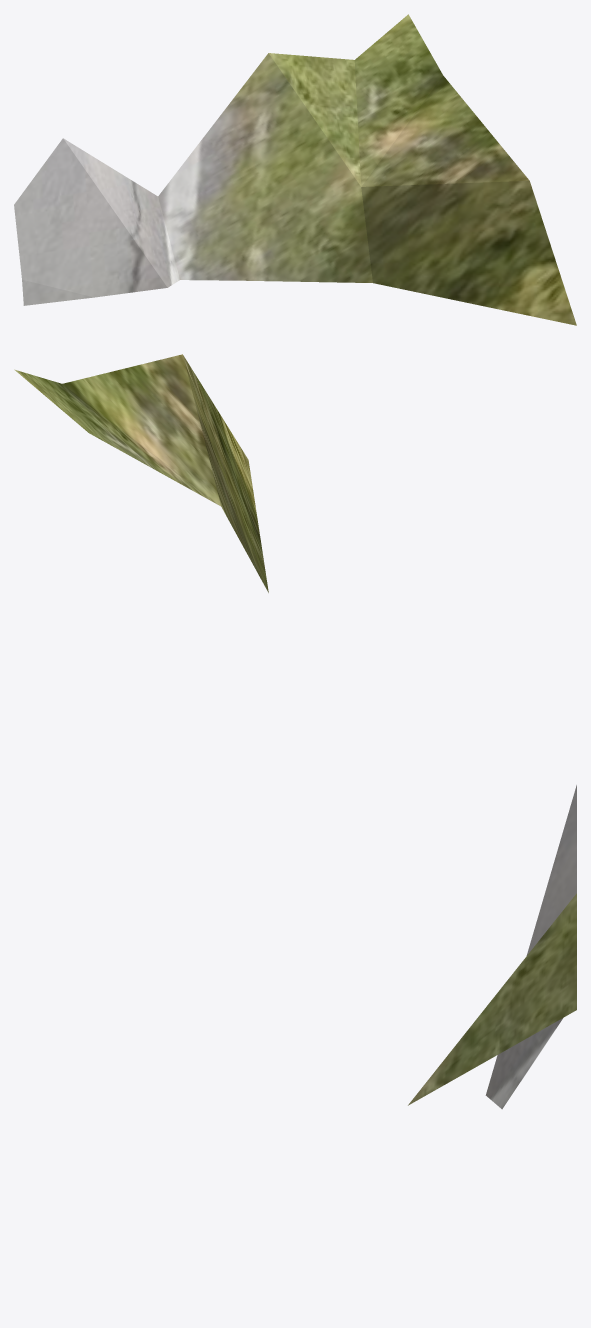
The picture shows the model from 3 angles, top to bottom: view 1: azimuth 30°, elevation 25°; view 2: azimuth 150°, elevation 25°; view 3: azimuth 270°, elevation 25°; orthographic projection. The views are drawn at different scales.
Size of the model in its own units: 2.95 by 1.35 by 2.18.
2 materials, 2 textured.
